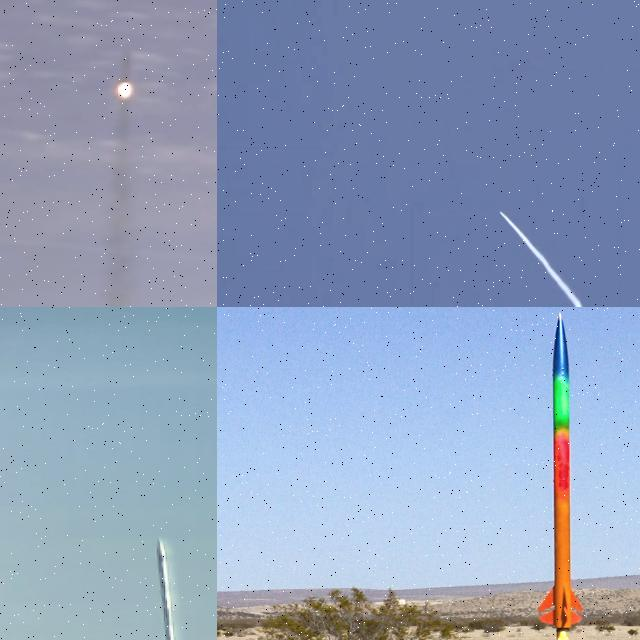Rocket: (535, 312, 585, 630), (156, 539, 183, 640), (120, 53, 132, 81), (498, 208, 501, 213)
